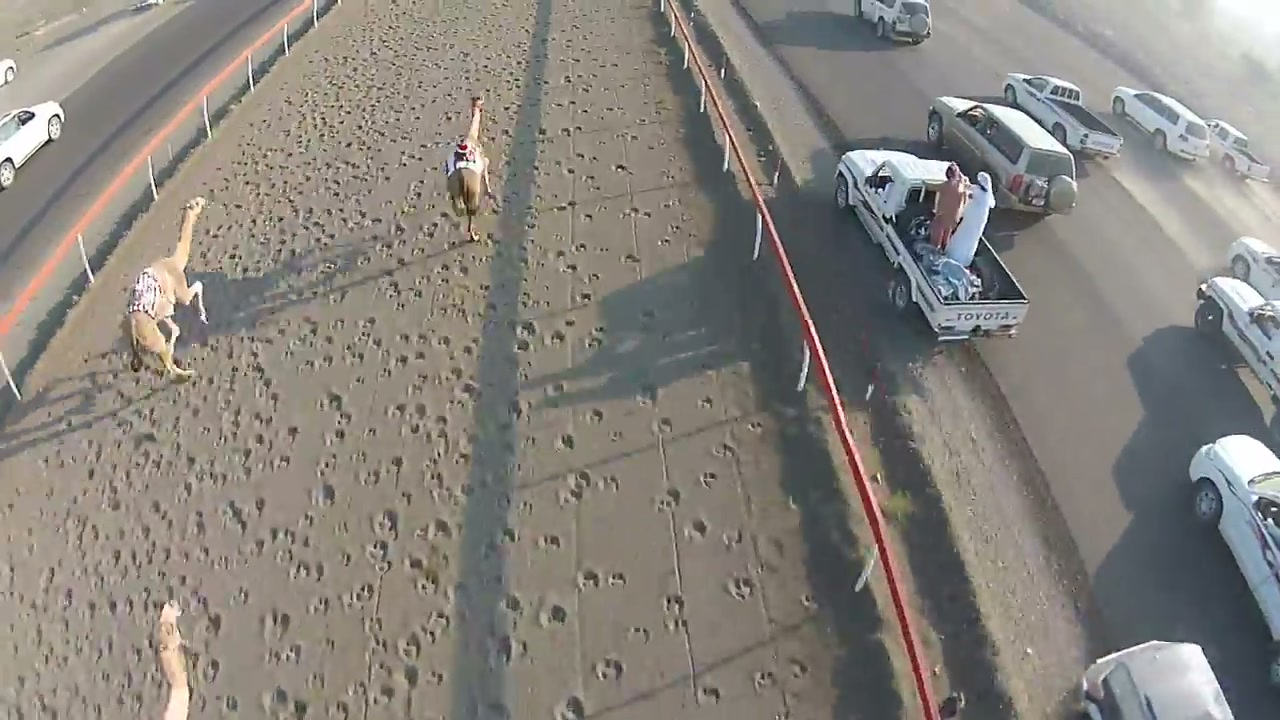animal_foot_print: (37, 84, 331, 706), (202, 142, 473, 709), (491, 98, 604, 693), (653, 389, 835, 695)
